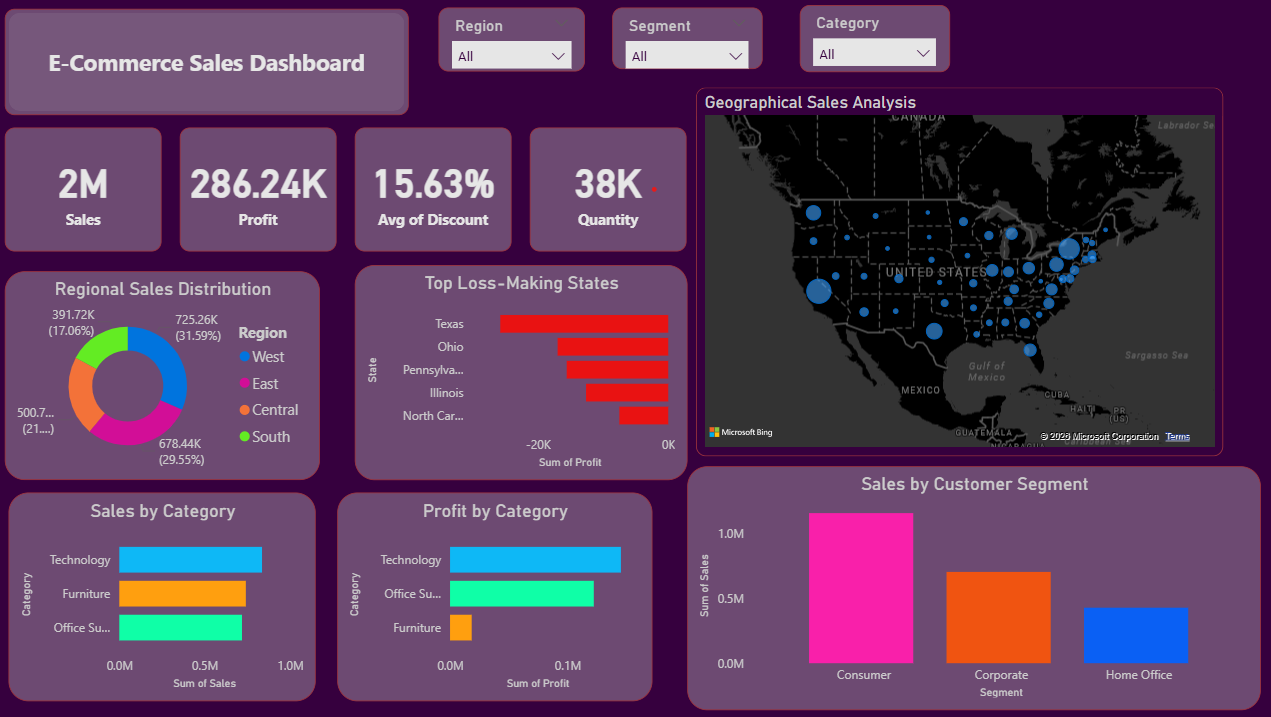

This screenshot's page, from the dashboard's own definition file:
{"tool":"powerbi","page":{"name":"Page 1","canvas":[1280,720],"ordinal":0},"visuals":[{"type":"card","title":"Total Sales","fields":{"Values":["Sum(cleaned_superstore.Sales)"]},"box":[9,127,157,124],"z":0},{"type":"card","title":"Total Profit","fields":{"Values":["Sum(cleaned_superstore.Profit)"]},"box":[184,127,157,124],"z":1000},{"type":"card","title":"Quantity","fields":{"Values":["Sum(cleaned_superstore.Quantity)"]},"box":[534,127,157,124],"z":2000},{"type":"card","title":"Average discount","fields":{"Values":["Avg(cleaned_superstore.Discount)"]},"box":[359,127,157,124],"z":3000},{"type":"clusteredBarChart","title":"Sales by Category","fields":{"Category":["cleaned_superstore.Category"],"Y":["Sum(cleaned_superstore.Sales)"]},"box":[12.5,492.5,307.5,208.8],"z":4000},{"type":"clusteredBarChart","title":"Profit by Category","fields":{"Category":["cleaned_superstore.Category"],"Y":["Sum(cleaned_superstore.Profit)"]},"box":[341.2,492.5,315,208.8],"z":5000},{"type":"donutChart","title":"Regional Sales Distribution","fields":{"Category":["cleaned_superstore.Region"],"Y":["Sum(cleaned_superstore.Sales)"]},"box":[8.8,271.2,315,208.8],"z":6000},{"type":"clusteredColumnChart","title":"Sales by Customer Segment","fields":{"Category":["cleaned_superstore.Segment"],"Y":["Sum(cleaned_superstore.Sales)"]},"box":[691.2,466.2,573.8,243.8],"z":7000},{"type":"clusteredBarChart","title":"Top Loss-Making States","fields":{"Y":["Sum(cleaned_superstore.Profit)"],"Category":["cleaned_superstore.State"]},"box":[358.8,265,332.5,215],"z":8000},{"type":"map","title":"Geographical Sales Analysis","fields":{"Category":["cleaned_superstore.State"],"Size":["Sum(cleaned_superstore.Sales)"]},"box":[700,87.5,527.5,368.8],"z":9000},{"type":"slicer","fields":{"Values":["cleaned_superstore.Region"]},"box":[466.2,6.2,146.2,63.8],"z":10000},{"type":"slicer","fields":{"Values":["cleaned_superstore.Category"]},"box":[1115,8.8,150,67.5],"z":11000},{"type":"slicer","fields":{"Values":["cleaned_superstore.Segment"]},"box":[766.2,7.5,150,61.2],"z":12000},{"type":"shape","box":[8.8,8.8,403.8,106.2],"z":13000}]}

Visuals, with their boxes in screenshot pixels (x1, y1, x2, y2), scaled from the page's 1280x720 canvas onto the 1271x717 screenshot:
"Total Sales" card: <box>9,126,165,250</box>
"Total Profit" card: <box>183,126,339,250</box>
"Quantity" card: <box>530,126,686,250</box>
"Average discount" card: <box>356,126,512,250</box>
"Sales by Category" clusteredBarChart: <box>12,490,318,698</box>
"Profit by Category" clusteredBarChart: <box>339,490,652,698</box>
"Regional Sales Distribution" donutChart: <box>9,270,322,478</box>
"Sales by Customer Segment" clusteredColumnChart: <box>686,464,1256,707</box>
"Top Loss-Making States" clusteredBarChart: <box>356,264,686,478</box>
"Geographical Sales Analysis" map: <box>695,87,1219,454</box>
slicer - cleaned_superstore.Region: <box>463,6,608,70</box>
slicer - cleaned_superstore.Category: <box>1107,9,1256,76</box>
slicer - cleaned_superstore.Segment: <box>761,7,910,68</box>
shape: <box>9,9,410,115</box>
